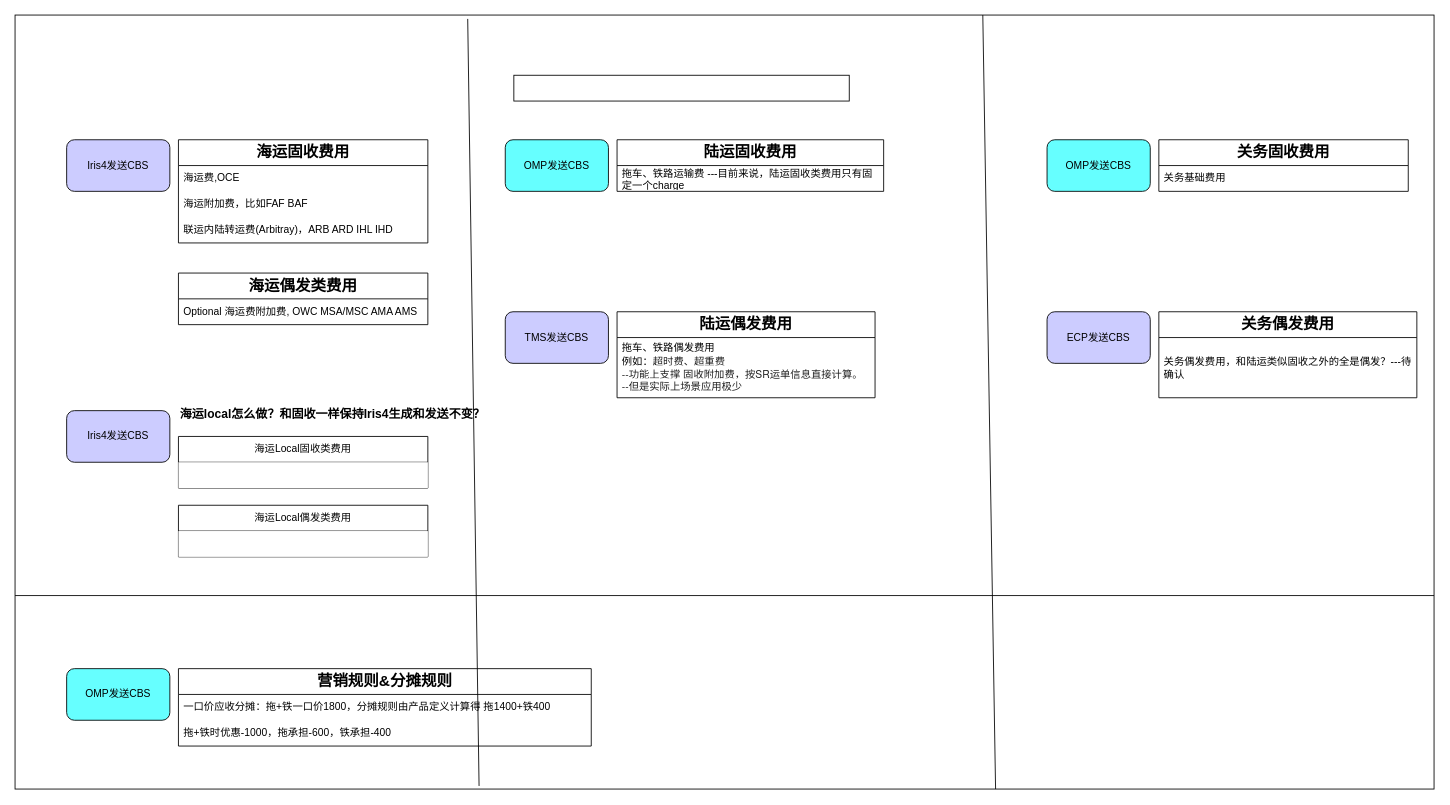
Some shapes in this 1450 by 805 pixel diagram are drawn without their labels. Each missing label, with the centre of its shape:
电放费 改单费: (x=302, y=543)
订舱费: (x=302, y=475)
陆运：代运，全部由Local收取，所以无所谓Local或不Local。 联运，费用归入海运固收费用，存在因陆运而产生的Local费用。: (x=681, y=87)
